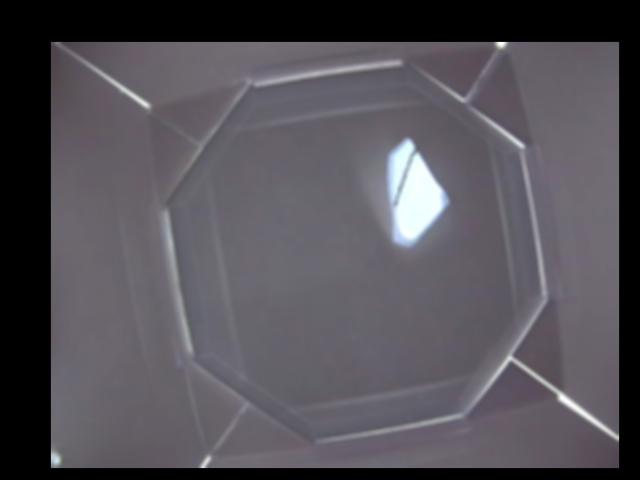China: (383, 136, 451, 246)
